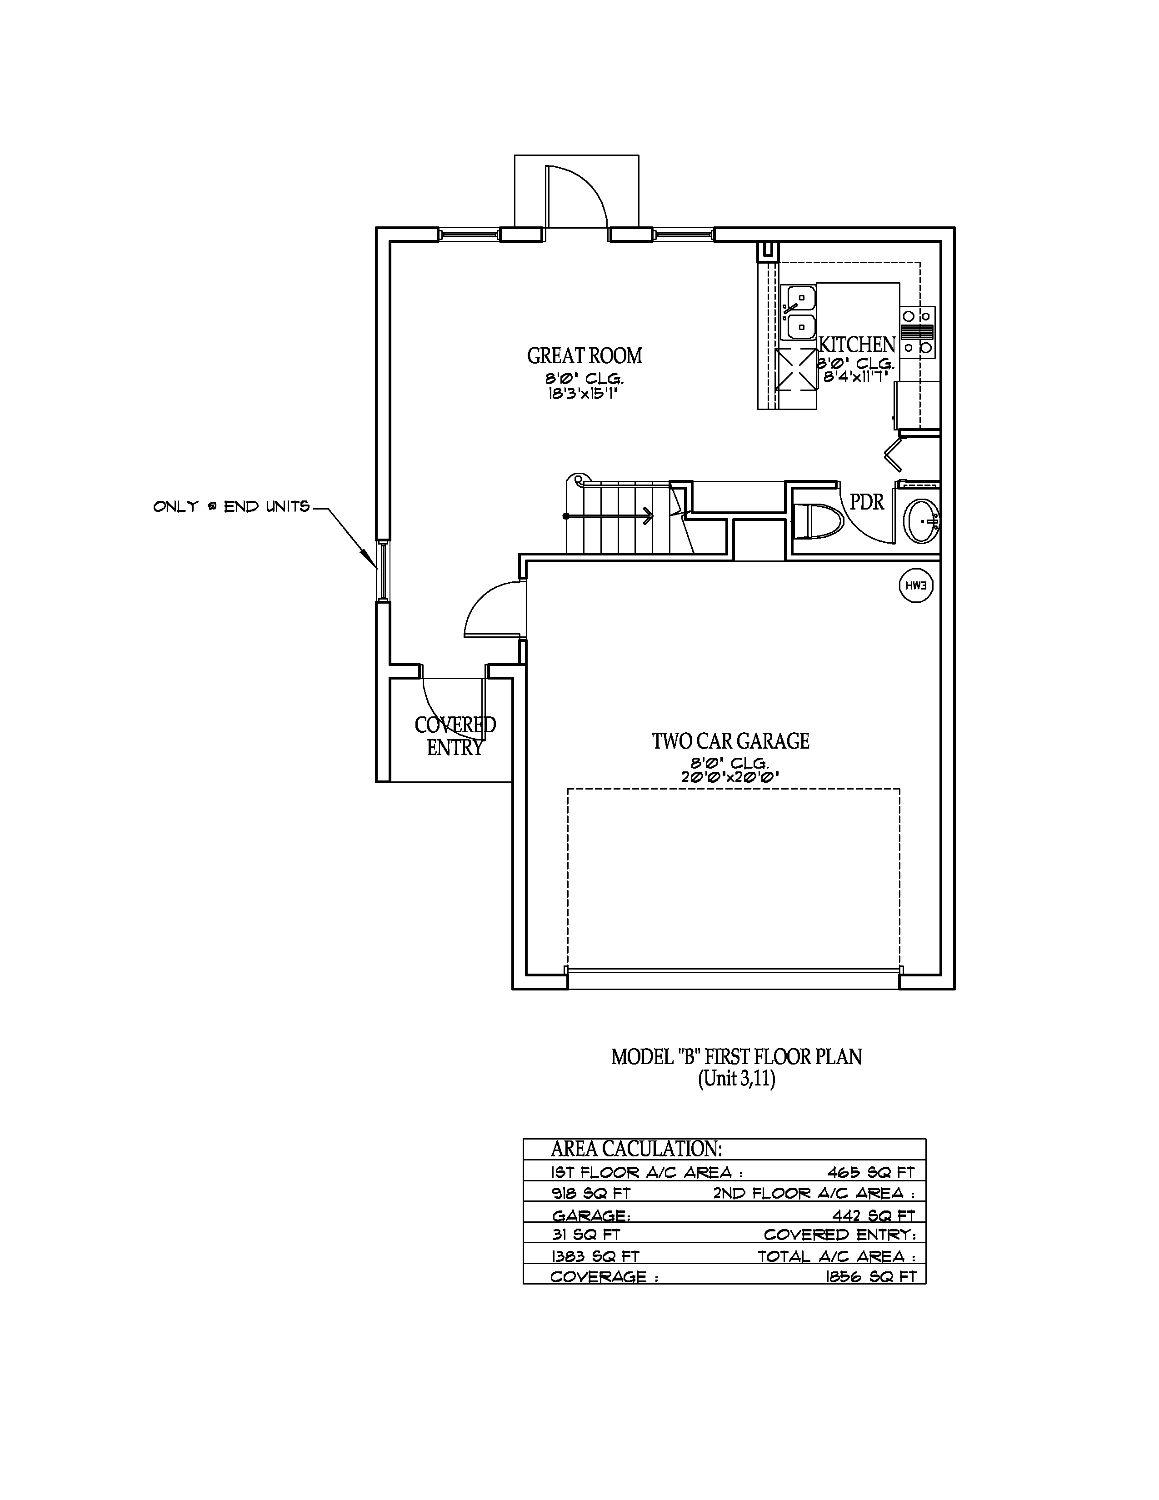ceramic sink: (901, 498, 939, 544)
door: (541, 166, 612, 244), (419, 662, 489, 741), (463, 578, 530, 642), (836, 478, 898, 545)
kitchen sink: (778, 284, 817, 342)
toilet: (794, 503, 845, 541)
window: (373, 538, 392, 605), (651, 225, 716, 244), (437, 226, 502, 244)
